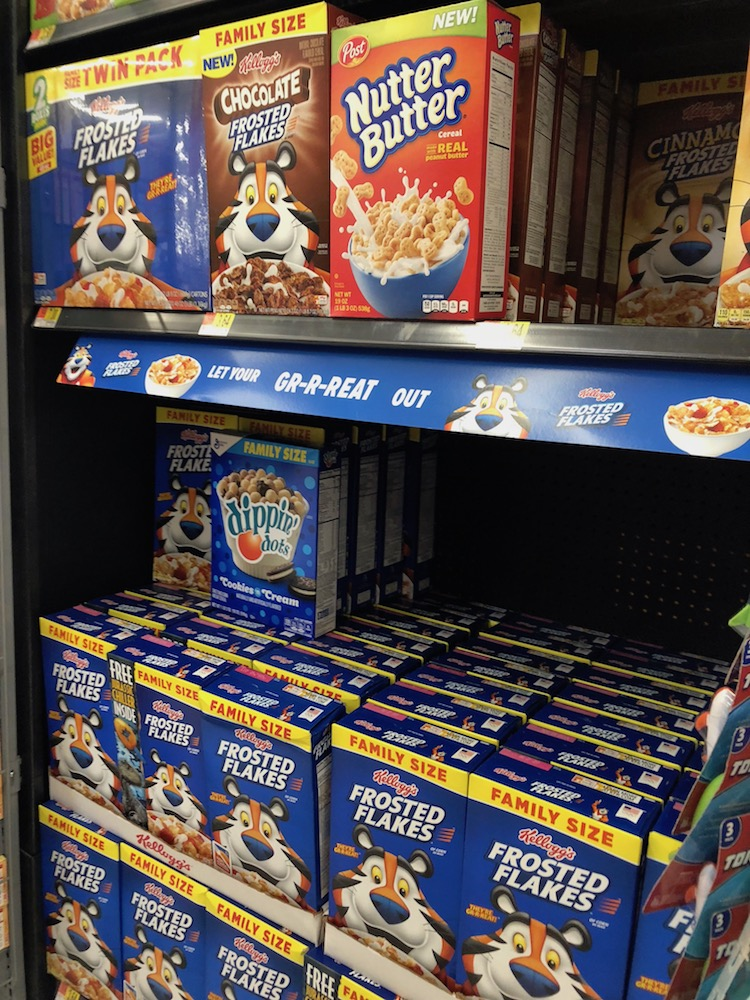Dippin Dots Cookies & Cream -568929378: (209, 433, 329, 630)
Nutter Butter-565717511: (335, 21, 498, 324)
